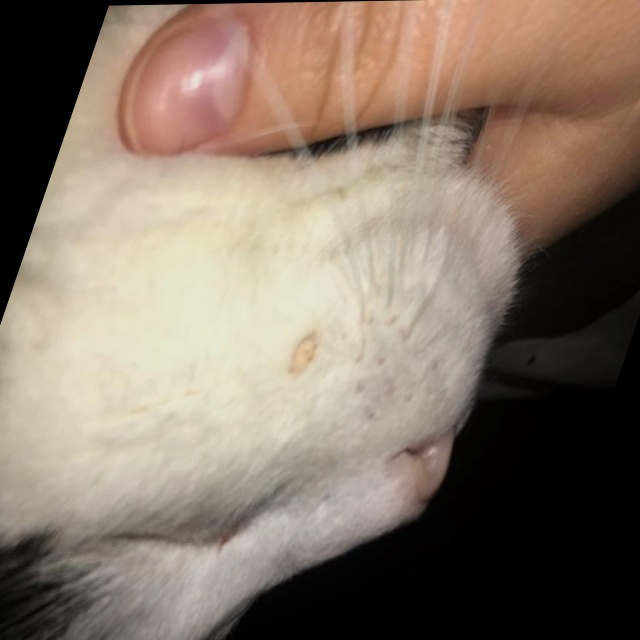lump_and_bump: (284, 335, 320, 375)
